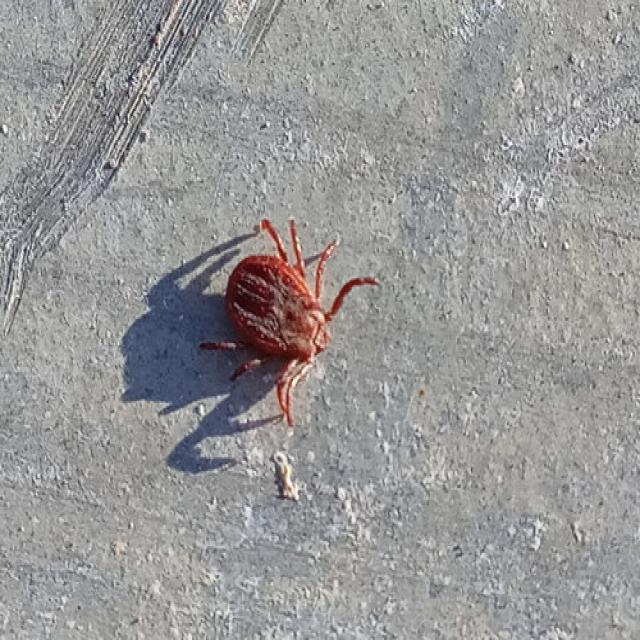Dermacentor Reticulatus-F: (200, 218, 380, 428)
